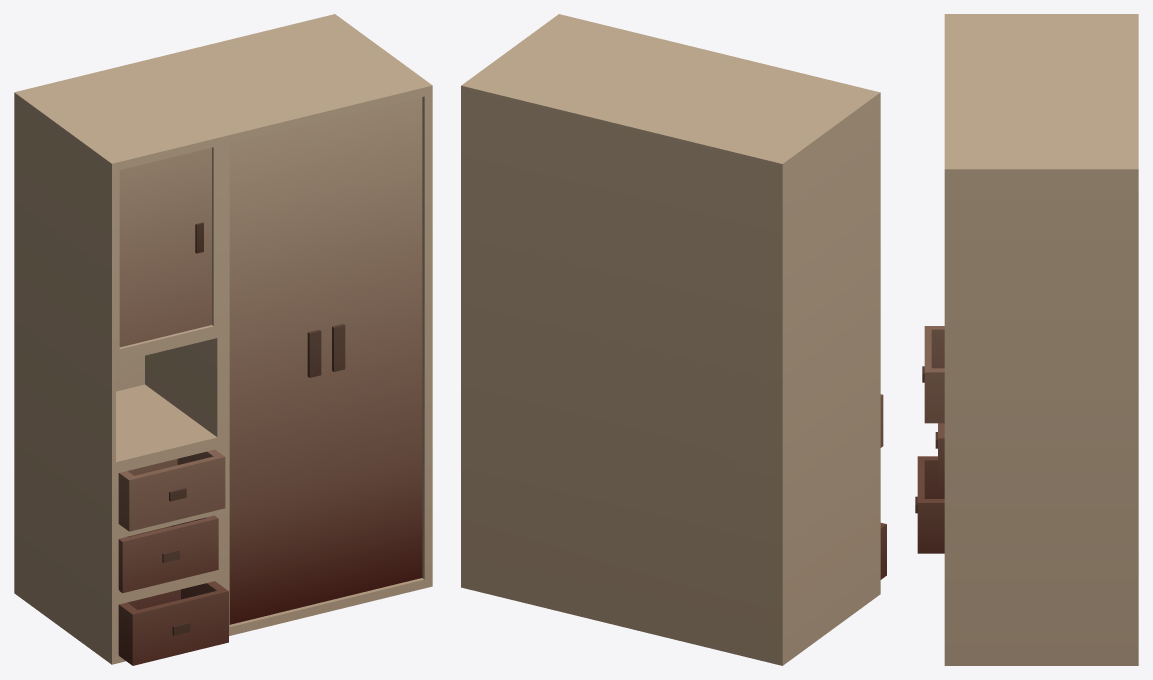
File: Closet.fbx
3 renders of one model, left to right at view 1: azimuth 30°, elevation 25°; view 2: azimuth 150°, elevation 25°; view 3: azimuth 270°, elevation 25°, orthographic.
Parts seen in each view (by area): view 1: Closet_Base, Closet_Door.001, Closet_Door, Closet_Door.002, Closet_Drawer.002, Closet_Drawer, Closet_Drawer.001; view 2: Closet_Base; view 3: Closet_Base, Closet_Drawer.002, Closet_Drawer, Closet_Drawer.001.
Part boxes in pixels (box(x1,y1,x2,y2)): Closet_Base: box(14, 14, 432, 664); Closet_Door.001: box(325, 97, 422, 601); Closet_Door: box(229, 121, 324, 624); Closet_Door.002: box(119, 147, 211, 347); Closet_Drawer.002: box(118, 581, 228, 665); Closet_Drawer: box(118, 449, 225, 531); Closet_Drawer.001: box(118, 515, 218, 593); Closet_Base: box(461, 14, 880, 665); Closet_Base: box(944, 14, 1138, 665); Closet_Drawer.002: box(915, 456, 944, 553); Closet_Drawer: box(922, 326, 944, 423); Closet_Drawer.001: box(935, 423, 944, 488).
Bounding box in the file's own units: 1.55 × 2.31 × 0.9401.
